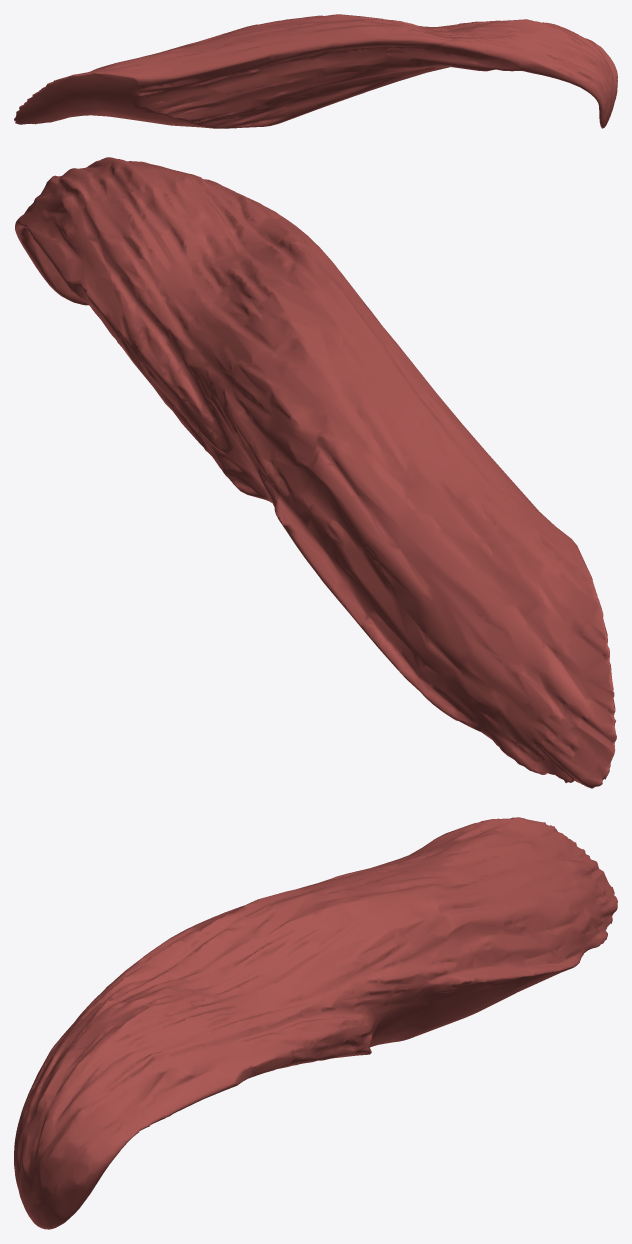
The model's file is FMA32545.glb.
The picture shows the model from 3 angles, top to bottom: view 1: azimuth 30°, elevation 25°; view 2: azimuth 150°, elevation 25°; view 3: azimuth 270°, elevation 25°; orthographic projection. The views are drawn at different scales.
Parts seen in each view (by area): view 1: FMA32545; view 2: FMA32545; view 3: FMA32545.
Part boxes in pixels (box(x1,y1,x2,y2)): FMA32545: box(14, 14, 617, 128); FMA32545: box(15, 157, 616, 788); FMA32545: box(14, 817, 617, 1229).
Size of the model in its own units: 0.1208 by 0.0316 by 0.0821.
